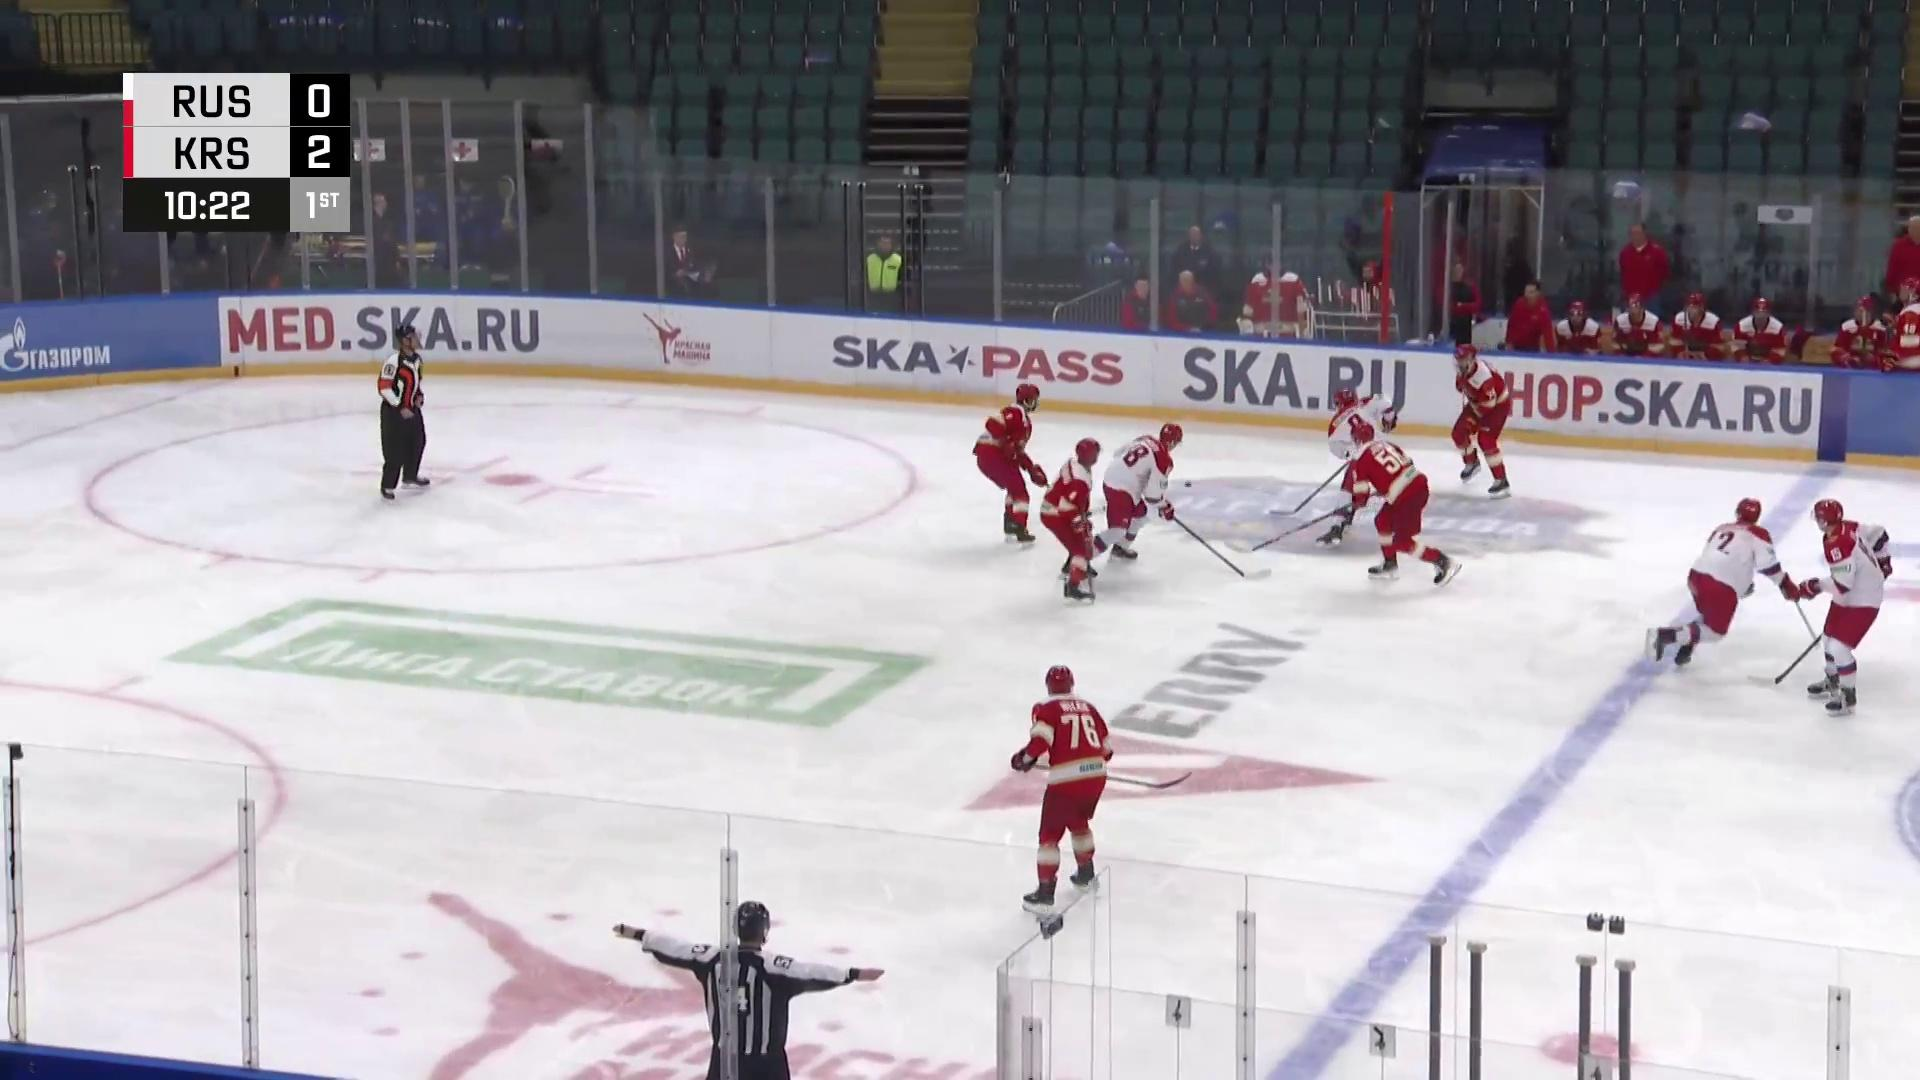ball: (1183, 481, 1195, 489)
